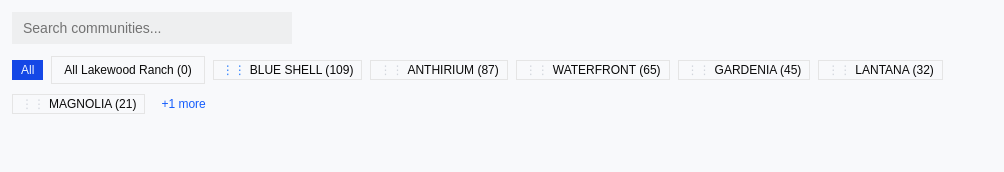
Test case: CommunityFilter › unpins a community via vertical dots and it disappears from chips
The width and height of the screenshot is (1004, 172).
Check: the text "BLUE SHELL (109)" is shown, box 213,60 -> 362,80
Click the text titled "Unpin" next to "BLUE SHELL" at (234, 70), box 222,62 -> 246,78
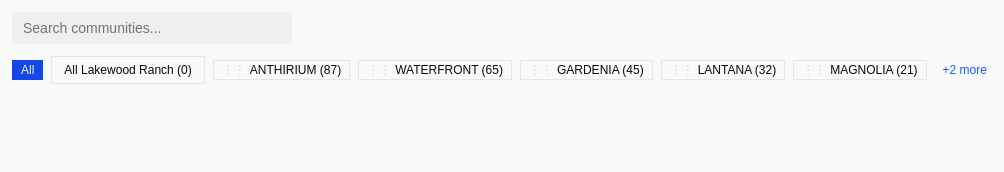
Check: the text "BLUE SHELL (109)" is gone
